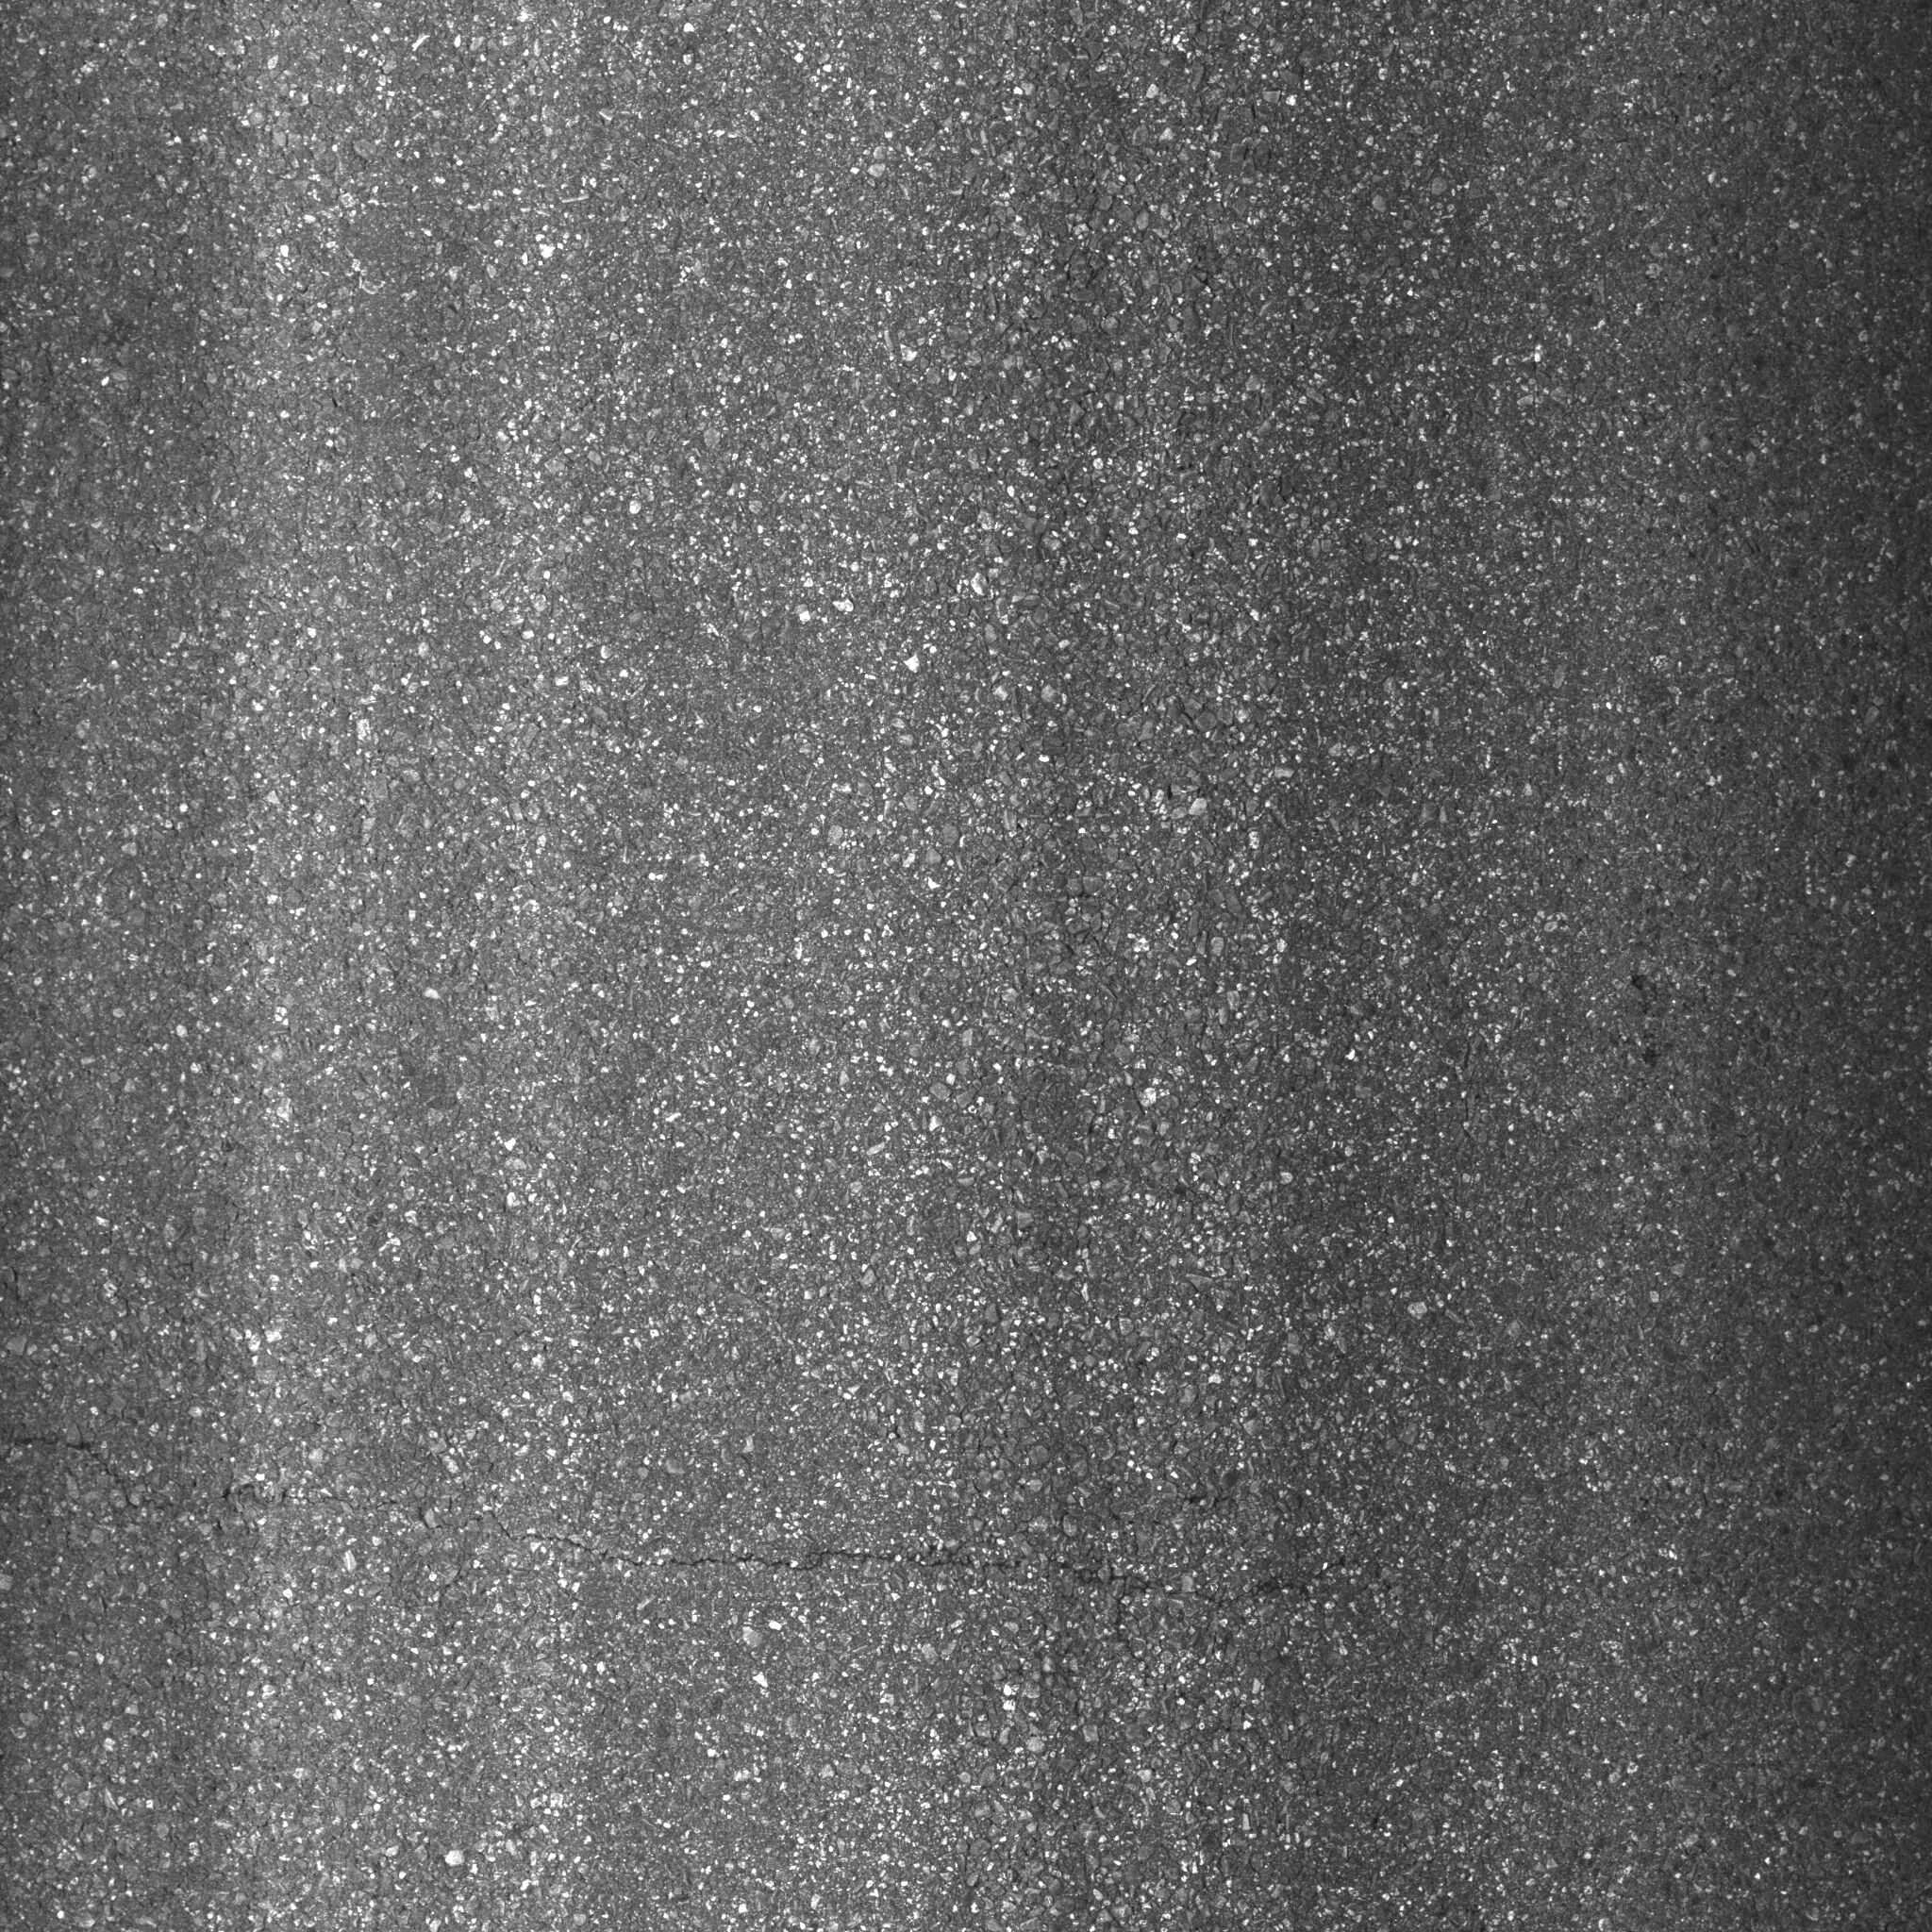transeverse: (14, 1403, 1318, 1629)
